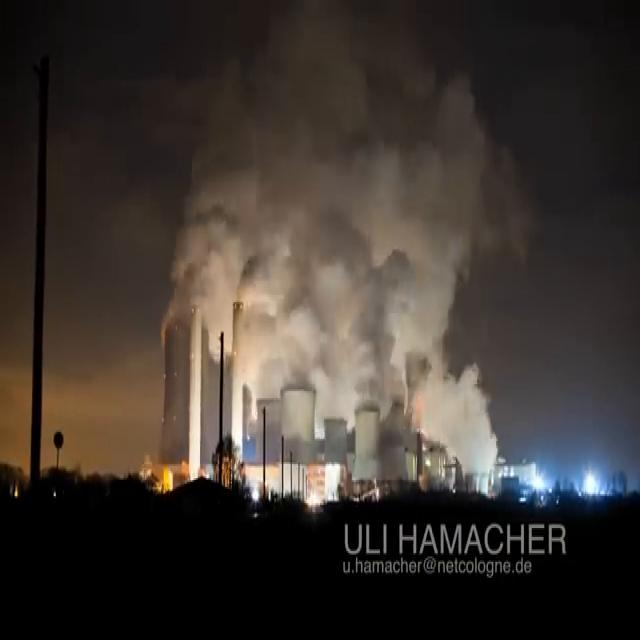smoke: (160, 23, 525, 473)
